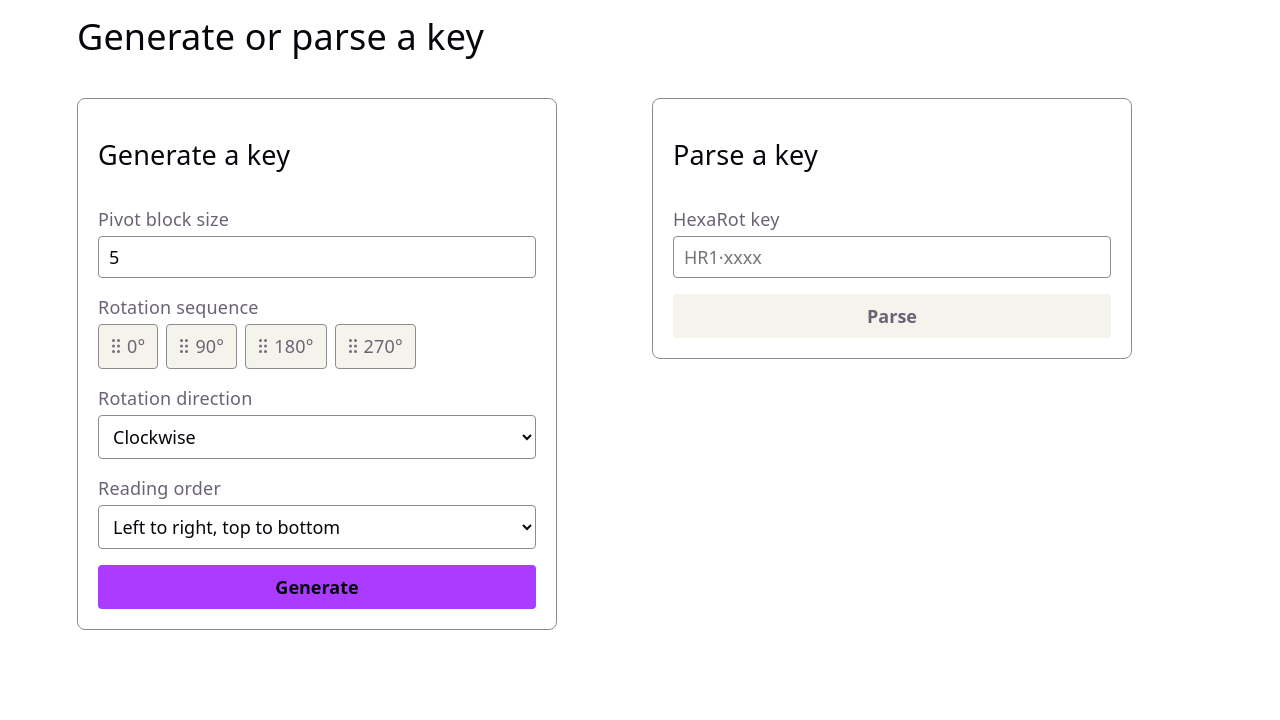
Scenario: KeyView › key generator section › provides visual feedback after clipboard copy
The image size is (1280, 720).
Submit the form with class "key-generator-form", box [77,98,557,630]
(page scrolled)
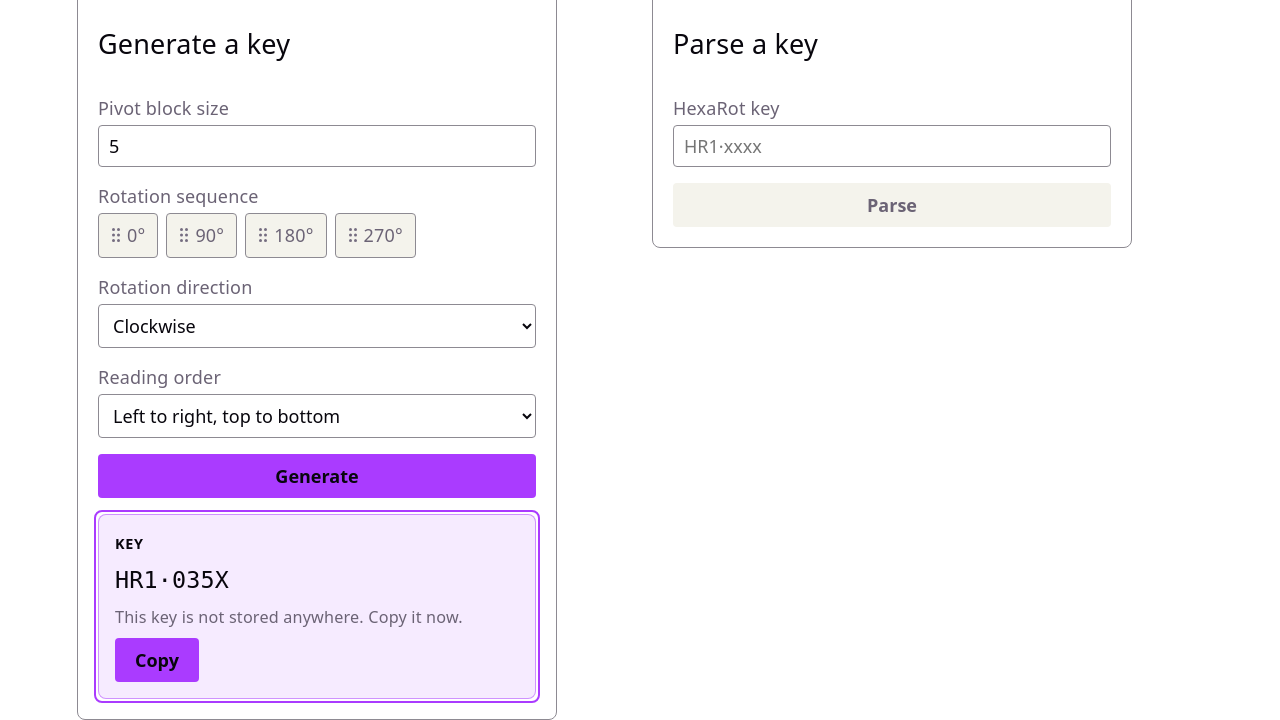
Click the button "Copy".
click(157, 660)  # box [115,638,199,682]
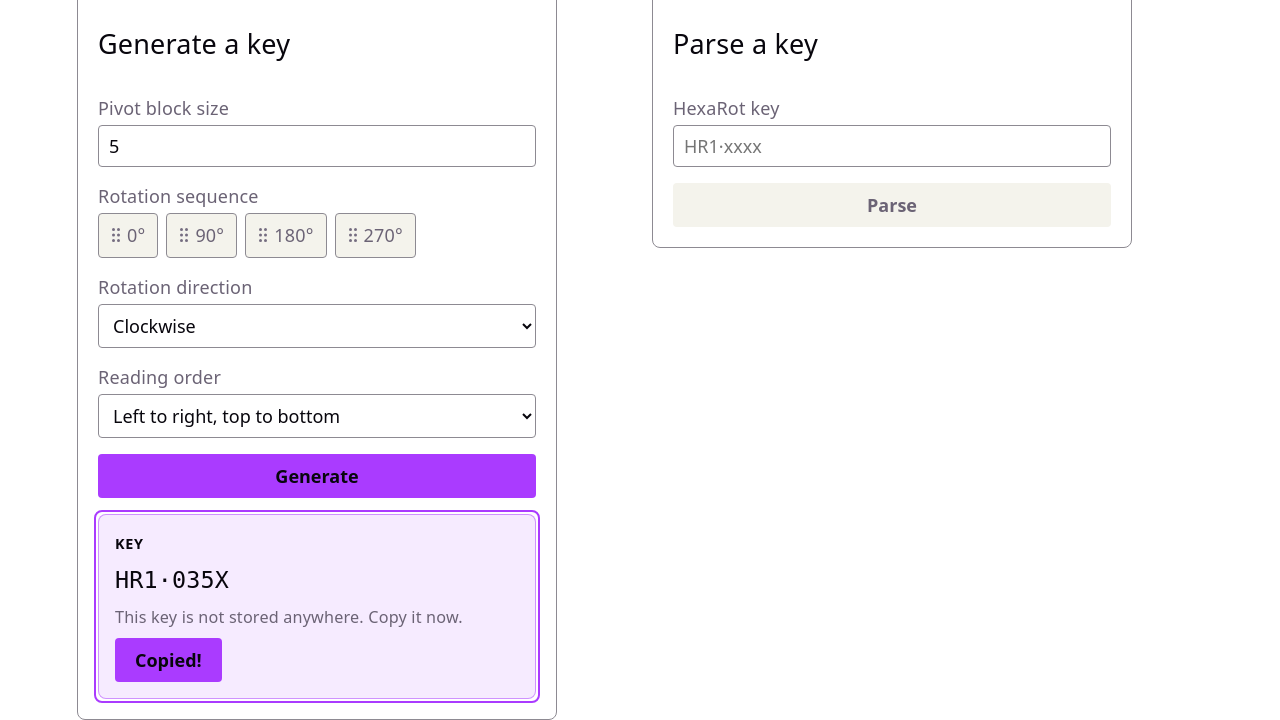
Now the button "Copied!" is shown, box [115,638,222,682]
